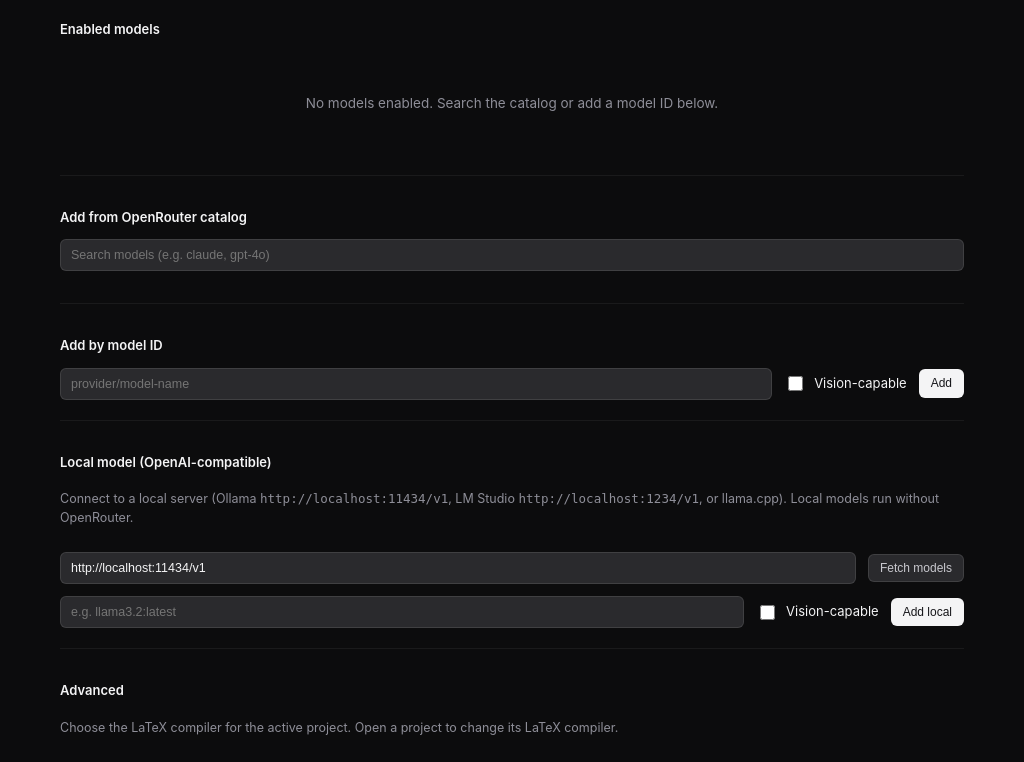
Test: ModelsSettingsView › failed mutation shows an error and does not refresh
In the field named "Model ID": point(416, 384) [60, 368, 772, 400], type "bad id"
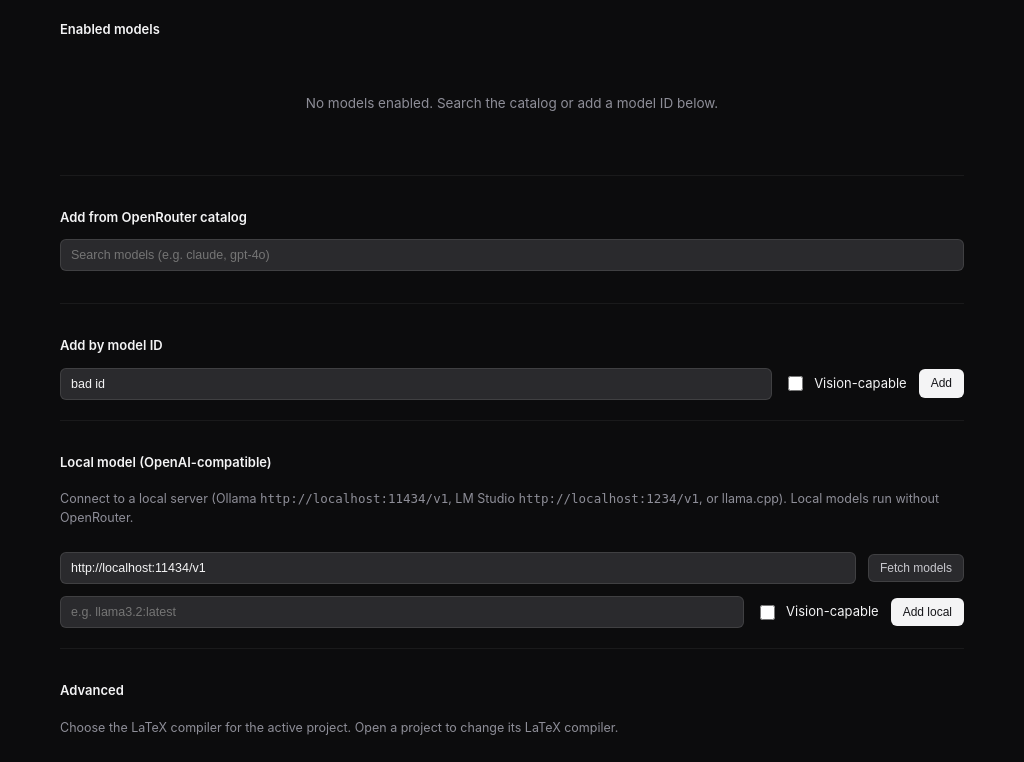
Click the button with aria-label "Add Model": point(941, 384) [919, 369, 964, 398]
(page scrolled)
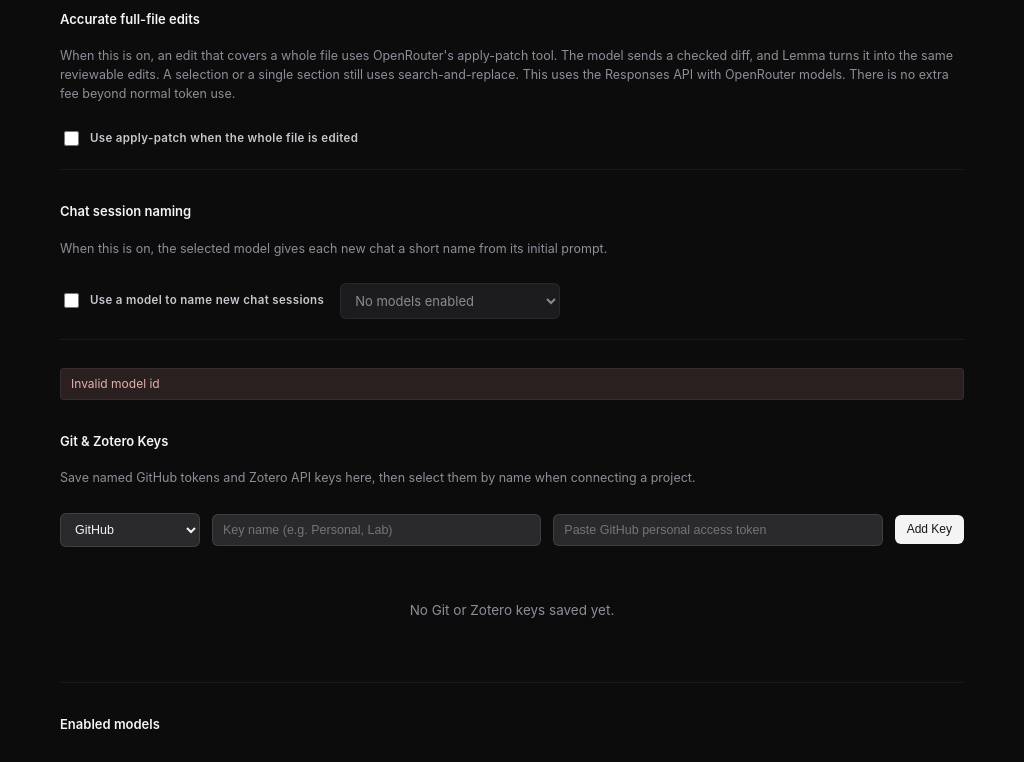
Check: the message with test id "settings-error" reads "Invalid model id", box [71, 376, 160, 391]
